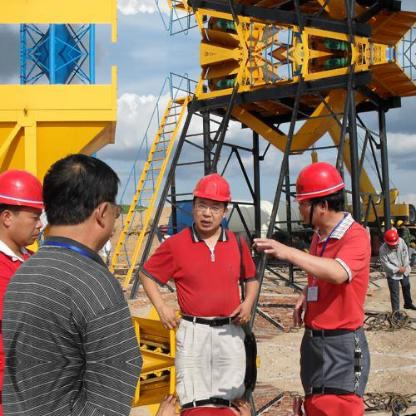No Safety Helmet: (37, 151, 128, 270)
Safety Helmet: (283, 161, 351, 232), (1, 165, 48, 254), (190, 171, 230, 243), (379, 225, 408, 252)
